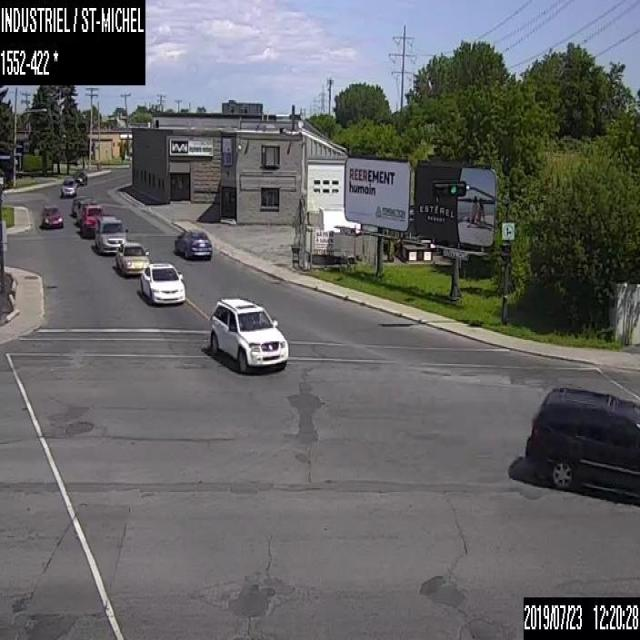vehicle: (524, 383, 639, 496), (207, 296, 288, 371), (140, 262, 185, 304), (94, 215, 128, 254), (173, 229, 211, 260), (116, 242, 150, 276), (80, 203, 106, 237), (75, 196, 96, 224), (41, 202, 62, 226), (60, 175, 76, 197), (72, 195, 86, 216), (73, 169, 86, 185)
